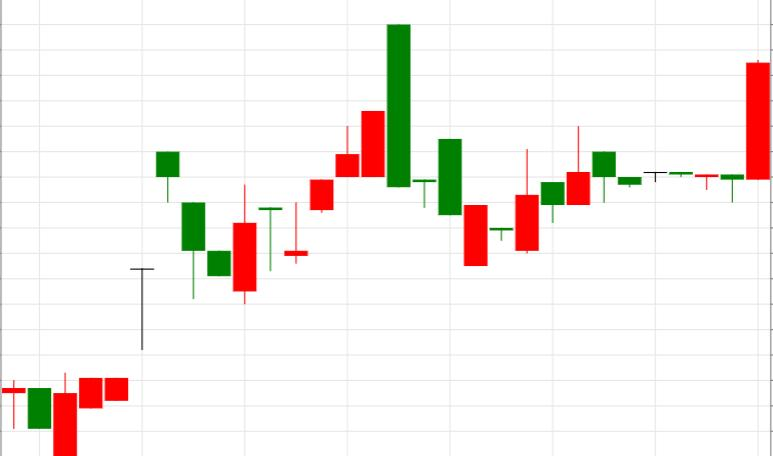bearish_engulfing_fall: (233, 24, 411, 305)
